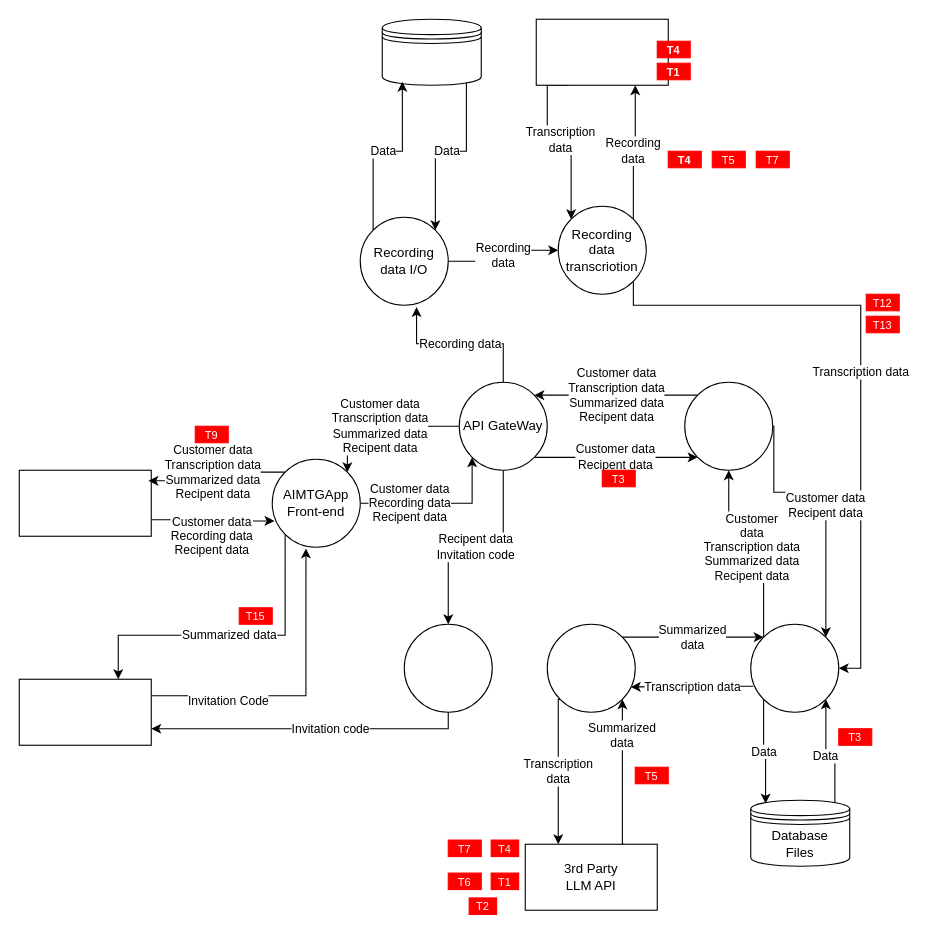
Some shapes in this 928 by 934 pixel diagram are drawn without their labels. Here are the shapes that lost their labels. From the top down, the box of each, then its label:
(381, 18, 481, 85): Recording data stroage
(535, 18, 668, 85): 3rd Party Transcription API
(684, 381, 773, 470): Customer Management (Include Auth)
(18, 469, 151, 536): Customer
(403, 623, 492, 712): Send Invitation Code
(546, 623, 635, 712): summarize transcription
(750, 623, 839, 712): Customer Database
(18, 678, 151, 745): External Summarized Result Recipent
